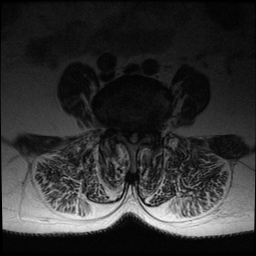CCS_severe_stenosis: (130, 123, 136, 147)
LFS_severe_stenosis: (144, 119, 151, 140)
LLS_severe_stenosis: (136, 122, 143, 140)
RFS_severe_stenosis: (115, 119, 122, 138)
RLS_severe_stenosis: (122, 120, 130, 143)
